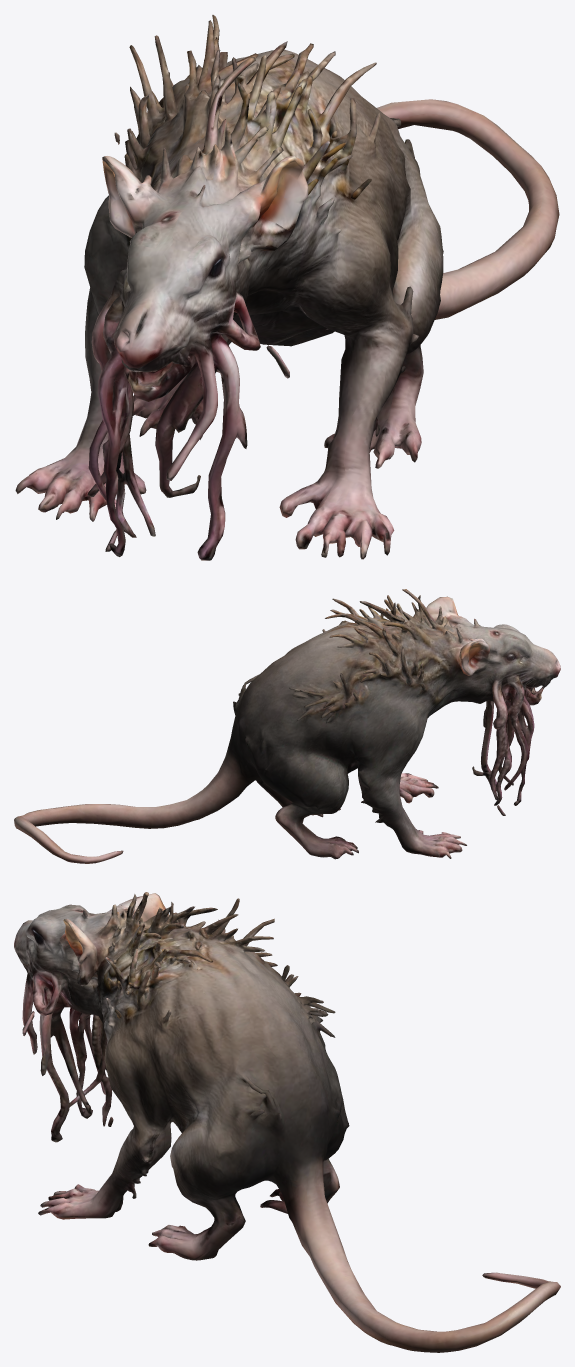
File: giant-rat-diseased.glb
3 views of the same model, one above another, from view 1: azimuth 30°, elevation 25°; view 2: azimuth 150°, elevation 25°; view 3: azimuth 270°, elevation 25° (orthographic). The views are drawn at different scales.
Bounding box in the file's own units: 1.99 × 1.16 × 1.89.
Materials: 1 (1 with a texture image).
